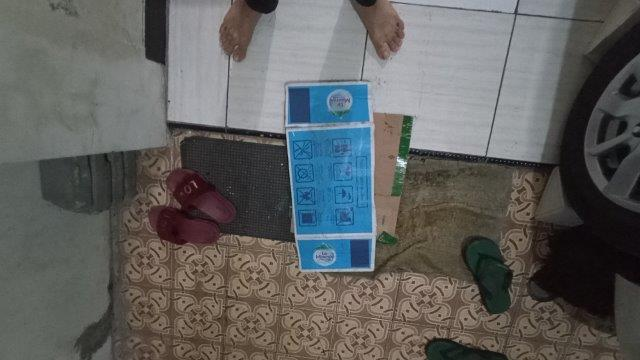kardus: (286, 82, 413, 271)
